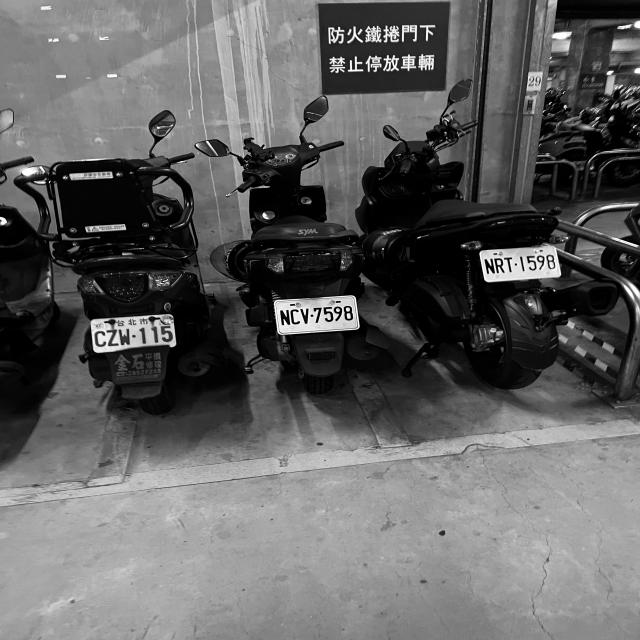-: (132, 333, 136, 338), (514, 262, 518, 266), (310, 314, 314, 318)
1: (136, 325, 148, 344), (151, 326, 160, 342), (518, 256, 526, 272)
5: (160, 324, 173, 342), (526, 255, 538, 271), (324, 307, 334, 322)
7: (314, 307, 322, 323)
8: (545, 254, 558, 270), (344, 305, 354, 321)
9: (536, 255, 547, 271), (333, 306, 343, 322)
C: (94, 330, 106, 347), (290, 308, 300, 324)
N: (484, 258, 496, 274), (280, 310, 290, 326)
R: (493, 257, 505, 274)
T: (504, 257, 514, 273)
V: (301, 308, 309, 324)
W: (118, 329, 130, 345)
Z: (106, 329, 118, 346)
plate: (92, 315, 176, 353), (482, 246, 560, 281), (276, 302, 358, 329)
